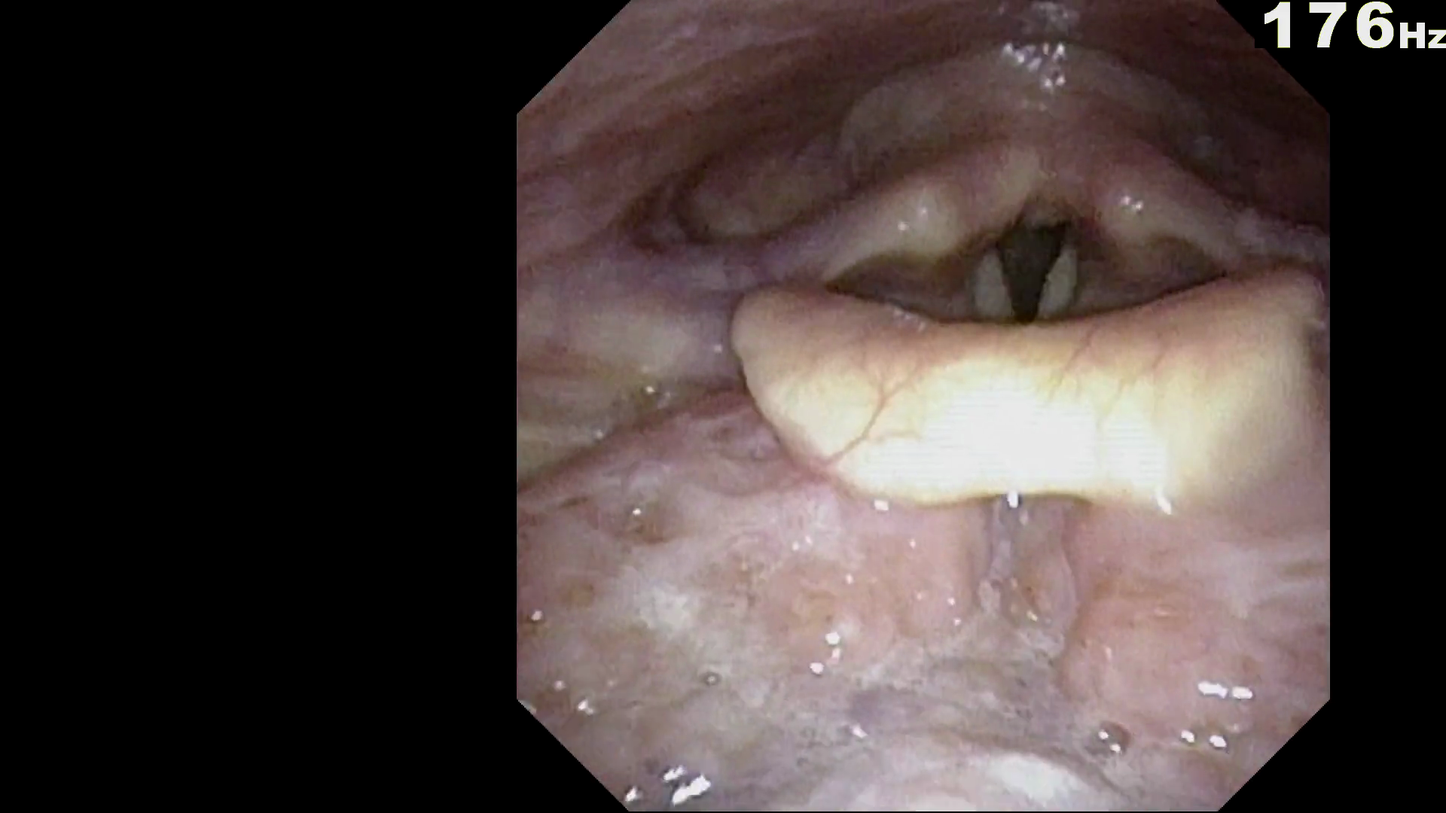epiglottis: (725, 247, 1320, 531)
trachea: (955, 218, 1102, 372)
